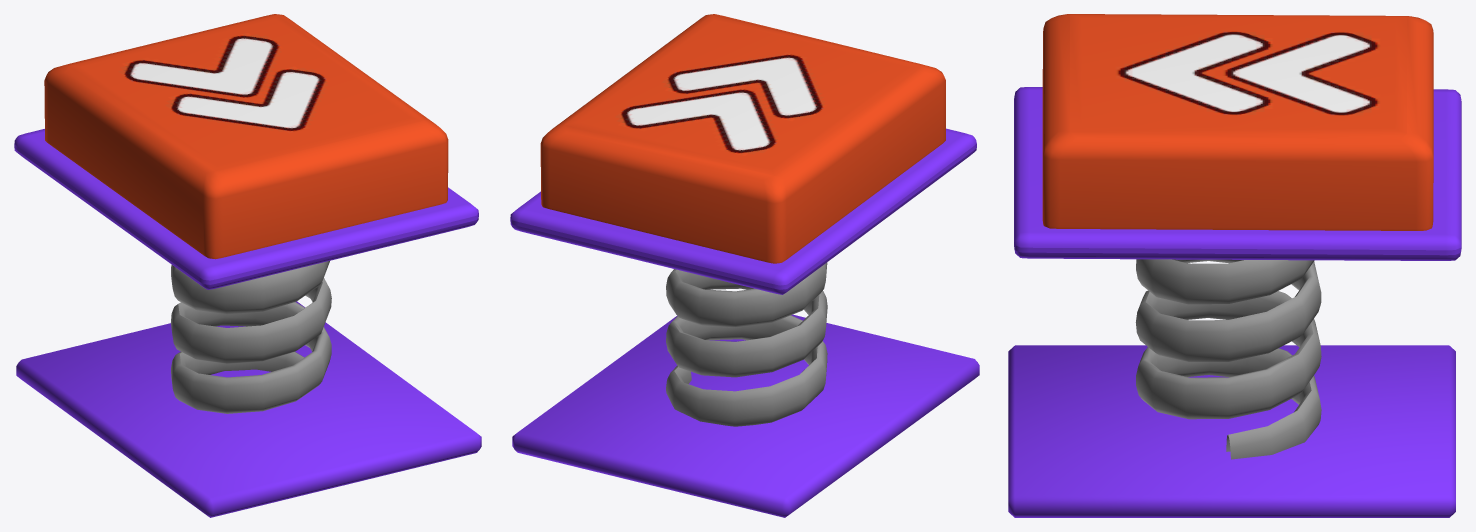
Rendered from Jump Pad Orange (2).fbx.
The picture shows the model from 3 angles, left to right: view 1: azimuth 30°, elevation 25°; view 2: azimuth 150°, elevation 25°; view 3: azimuth 270°, elevation 25°; orthographic projection. The views are drawn at different scales.
Visible parts, largest first — view 1: jump_ramp, Jump Pad Orange (2); view 2: jump_ramp, Jump Pad Orange (2); view 3: jump_ramp, Jump Pad Orange (2).
Boxes of the visible parts, box(x1,y1,x2,y2) form: jump_ramp: box(14, 14, 478, 413); Jump Pad Orange (2): box(16, 301, 481, 517); jump_ramp: box(510, 14, 976, 426); Jump Pad Orange (2): box(512, 314, 979, 517); jump_ramp: box(1014, 14, 1461, 459); Jump Pad Orange (2): box(1008, 345, 1455, 517).
Size of the model in its own units: 3.3 by 3.68 by 4.08.
3 materials, 1 textured.
